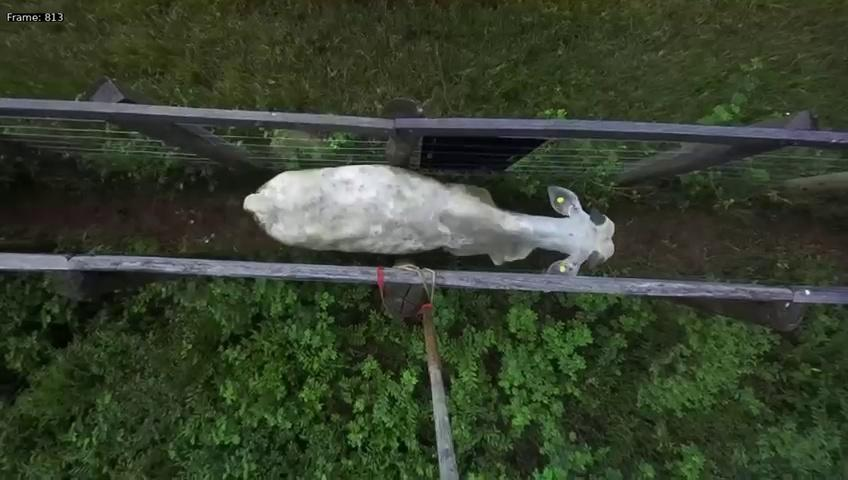cattle: (241, 125, 618, 275)
